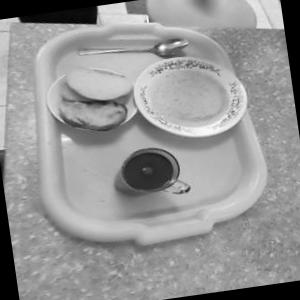bread: (51, 48, 142, 116)
cheese_sandwich: (36, 72, 131, 143)
coffee: (106, 144, 190, 212)
porridge: (135, 56, 255, 151)
